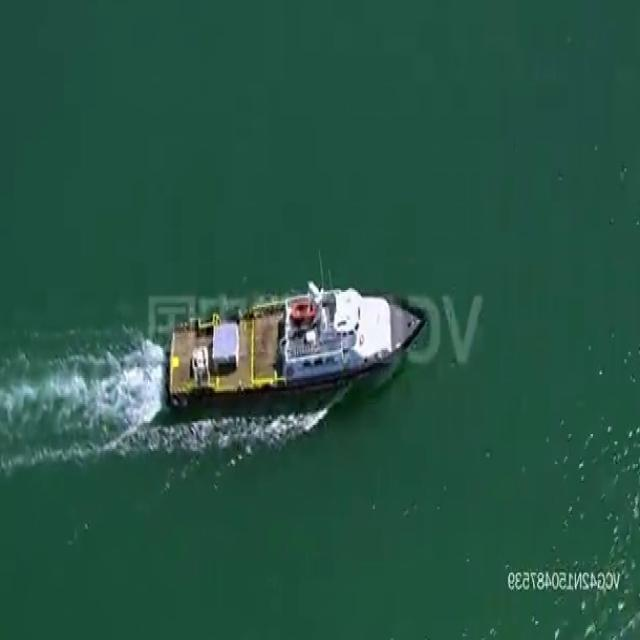houseboat: (168, 282, 426, 401)
